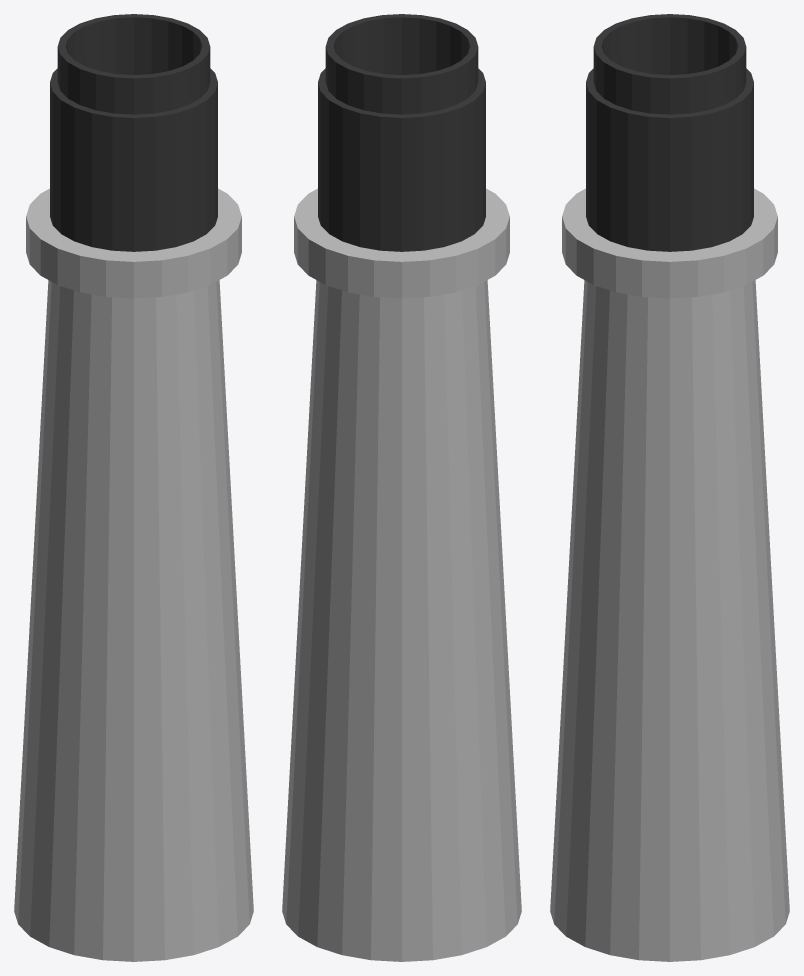
Rendered from LightStoneDecorationLargeIndustrialChimney1.fbx.
3 views of the same model, side by side, from view 1: azimuth 30°, elevation 25°; view 2: azimuth 150°, elevation 25°; view 3: azimuth 270°, elevation 25° (orthographic).
Visible parts, largest first — view 1: LightStoneDecorationLargeIndustrialChimney2; view 2: LightStoneDecorationLargeIndustrialChimney2; view 3: LightStoneDecorationLargeIndustrialChimney2.
Boxes of the visible parts, x1,y1,x2,y2 form: LightStoneDecorationLargeIndustrialChimney2: [14, 14, 253, 961]; LightStoneDecorationLargeIndustrialChimney2: [282, 14, 521, 961]; LightStoneDecorationLargeIndustrialChimney2: [550, 14, 789, 961].
Bounding box in the file's own units: 600 × 2389 × 600.
Materials: 2 (2 with a texture image).
